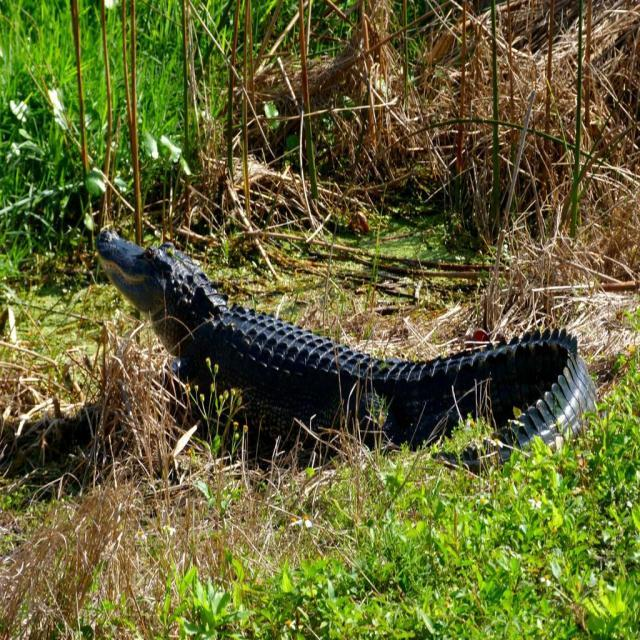crocodile: (84, 227, 599, 473)
